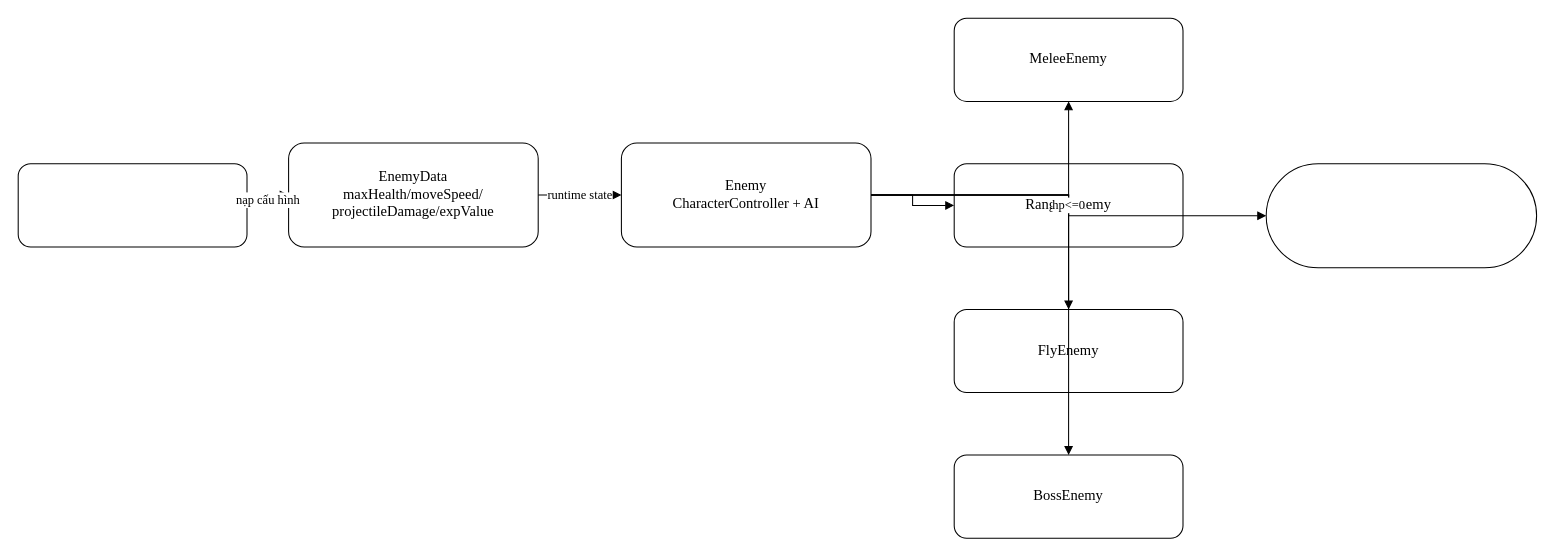
Some shapes in this 1555 by 556 pixel diagram are drawn without their labels. The shapes that lost their labels are listed below. From the top down, each one's centre as x and y in pixels, then its label:
At [132,205]: "EnemyConfig".
At [1401,215]: "OnDeath ExpDropper / Wave update".
